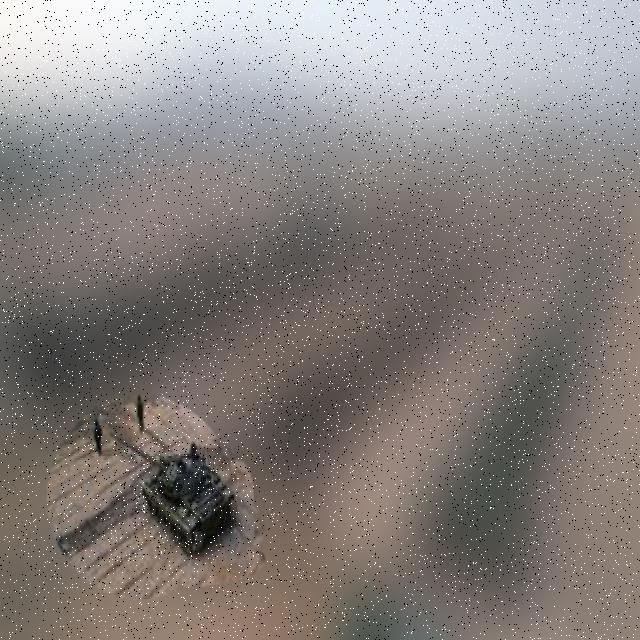MIL_MBT: (112, 434, 240, 560)
